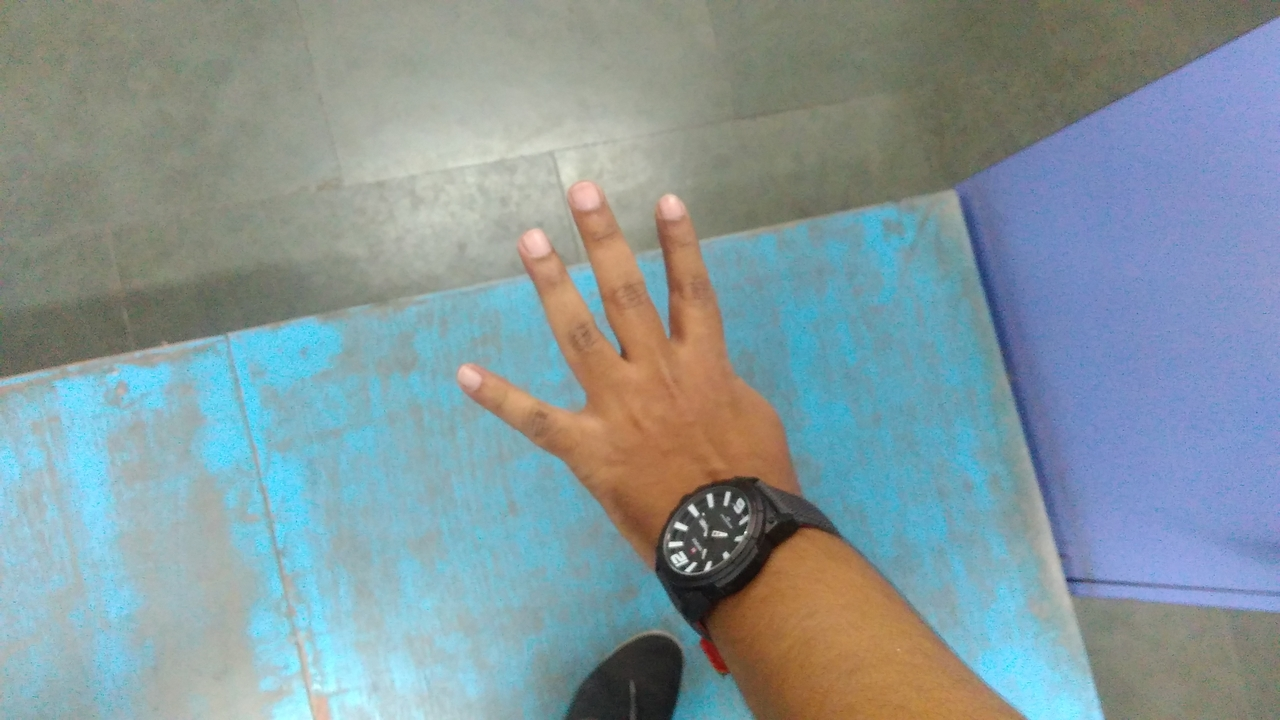fingertip: (444, 352, 508, 404), (558, 172, 622, 220), (646, 182, 702, 234), (508, 216, 560, 266)
